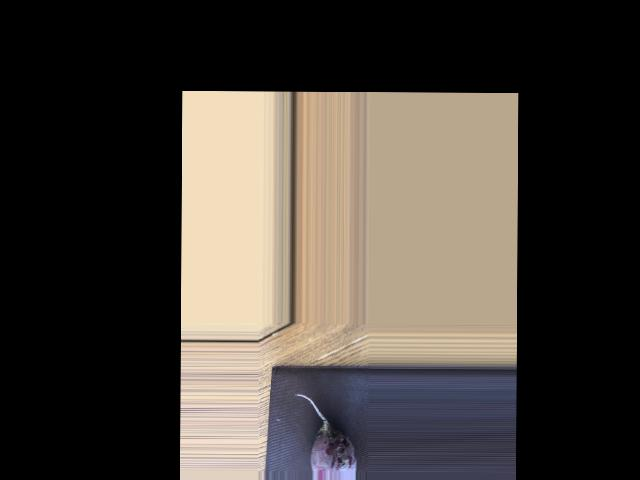beet: (295, 393, 357, 471)
